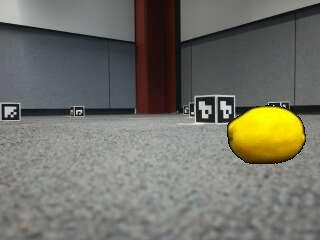lemon: (228, 106, 305, 163)
